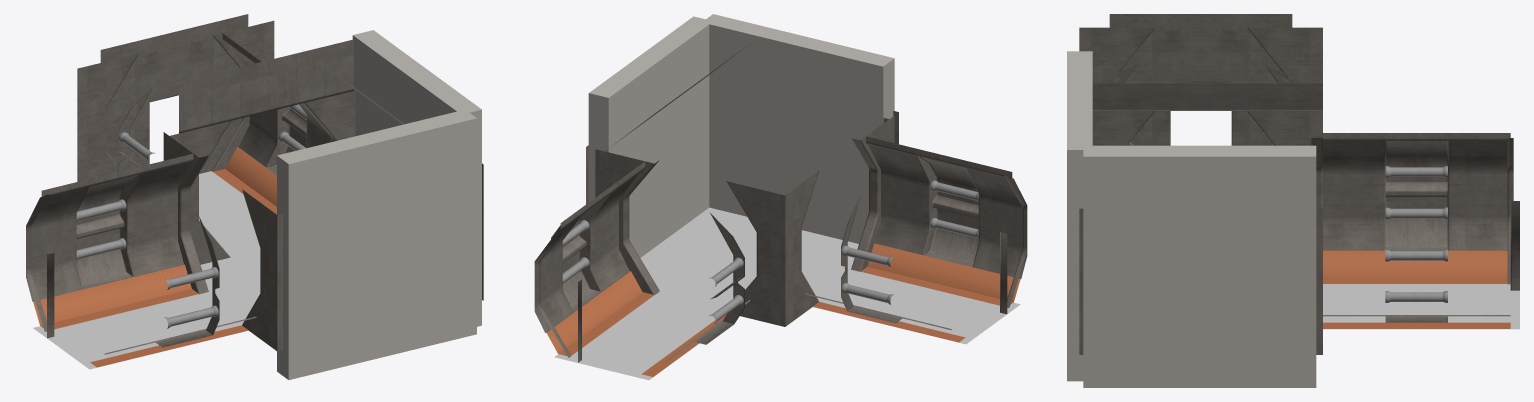
The model's file is HC_room2C.gltf.
3 renders of one model, left to right at view 1: azimuth 30°, elevation 25°; view 2: azimuth 150°, elevation 25°; view 3: azimuth 270°, elevation 25°, orthographic. The views are drawn at different scales.
Parts seen in each view (by area): view 1: Room4_Curve, Cube (1), Cube; view 2: Room4_Curve, Cube (1), Cube; view 3: Room4_Curve, Cube, Cube (1).
Part boxes in pixels (bbox=[...]): Room4_Curve: bbox=[26, 14, 483, 369]; Cube (1): bbox=[277, 109, 476, 379]; Cube: bbox=[352, 30, 481, 326]; Room4_Curve: bbox=[534, 45, 1027, 380]; Cube (1): bbox=[702, 14, 894, 243]; Cube: bbox=[588, 16, 709, 257]; Room4_Curve: bbox=[1079, 14, 1519, 354]; Cube: bbox=[1083, 145, 1316, 387]; Cube (1): bbox=[1067, 51, 1092, 381].
Size of the model in its own units: 14.82 by 8.34 by 14.8.
